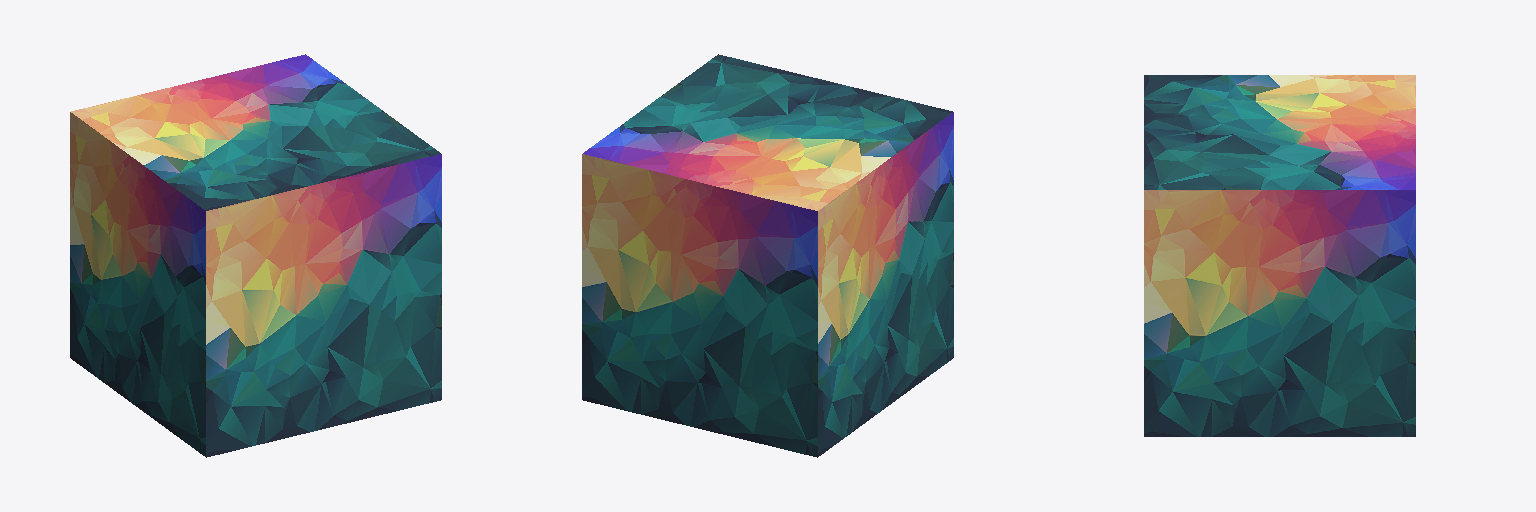
3 views of the same model, side by side, from view 1: azimuth 30°, elevation 25°; view 2: azimuth 150°, elevation 25°; view 3: azimuth 270°, elevation 25° (orthographic).
Visible parts, largest first — view 1: cube; view 2: cube; view 3: cube.
Part boxes in pixels (x1,y1,x2,y2): cube: (70,54,441,457); cube: (582,54,953,457); cube: (1144,75,1415,436).
Size of the model in its own units: 1 by 1 by 1.
Materials: 1 (1 with a texture image).